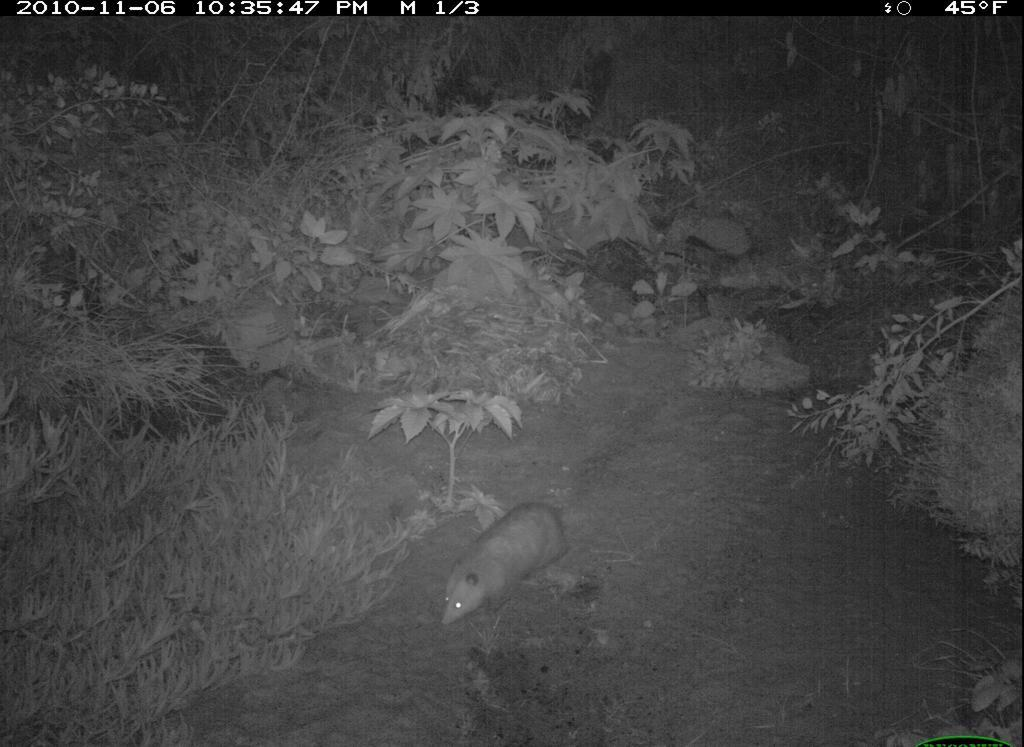opossum: (436, 496, 584, 637)
